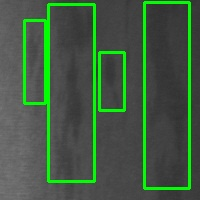inclusion: (144, 2, 189, 188), (48, 4, 94, 181), (24, 20, 45, 103), (99, 52, 124, 110)
